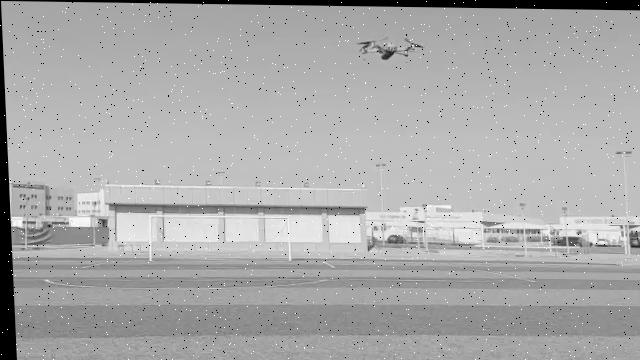drone: (354, 32, 421, 65)
